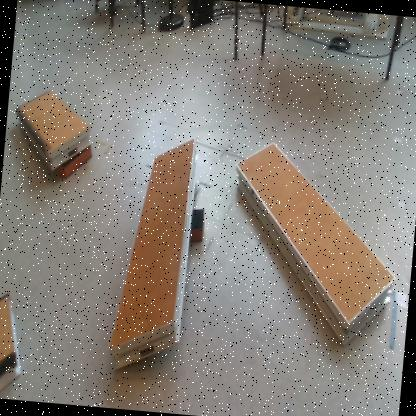Stairs: (236, 144, 397, 348), (109, 137, 200, 373), (18, 90, 94, 170), (1, 294, 22, 392)
